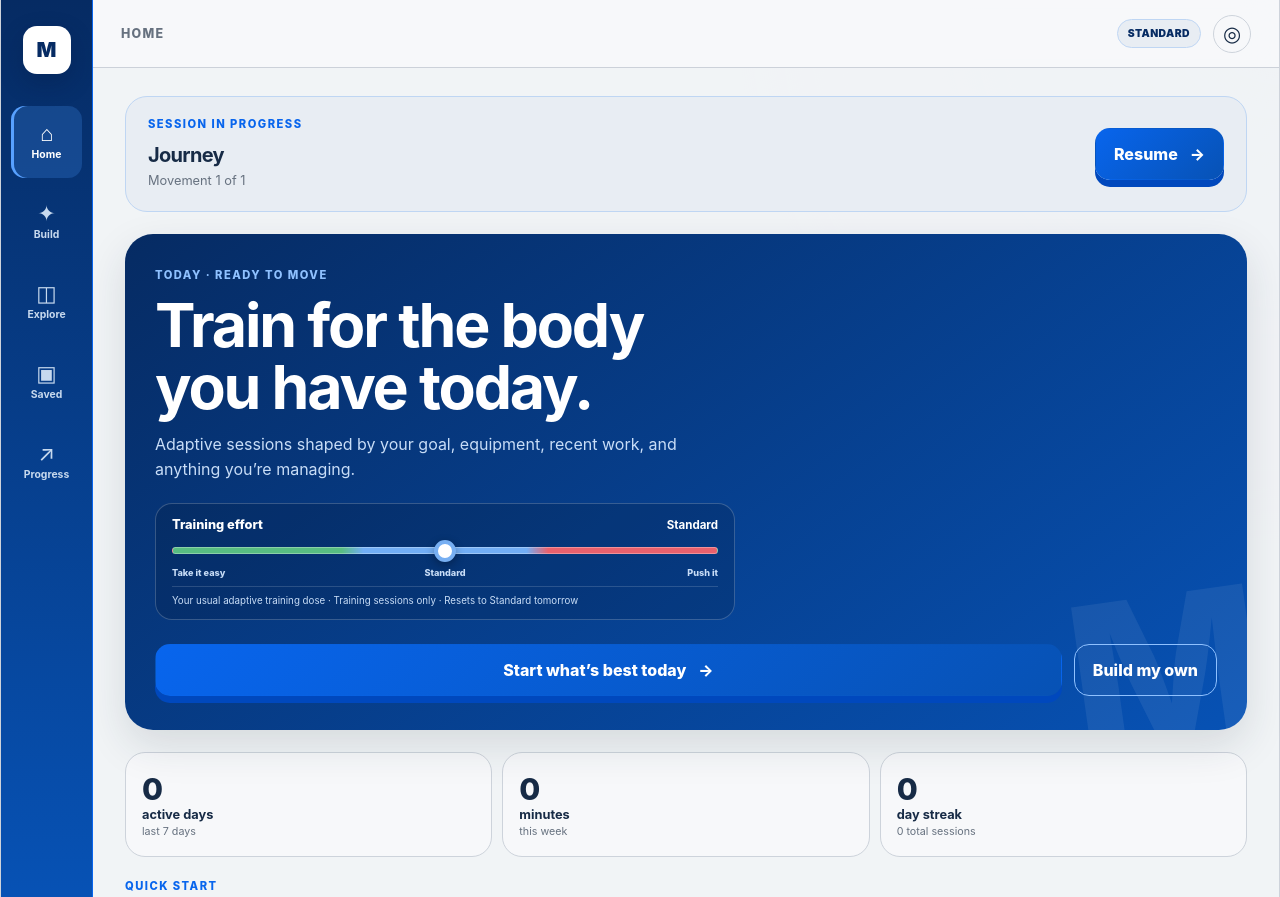
Scenario: resumes a persisted session, records review data, and transitions into Progress
Click the button "Resume →" at x=1159, y=154, box 1095,128 -> 1224,180
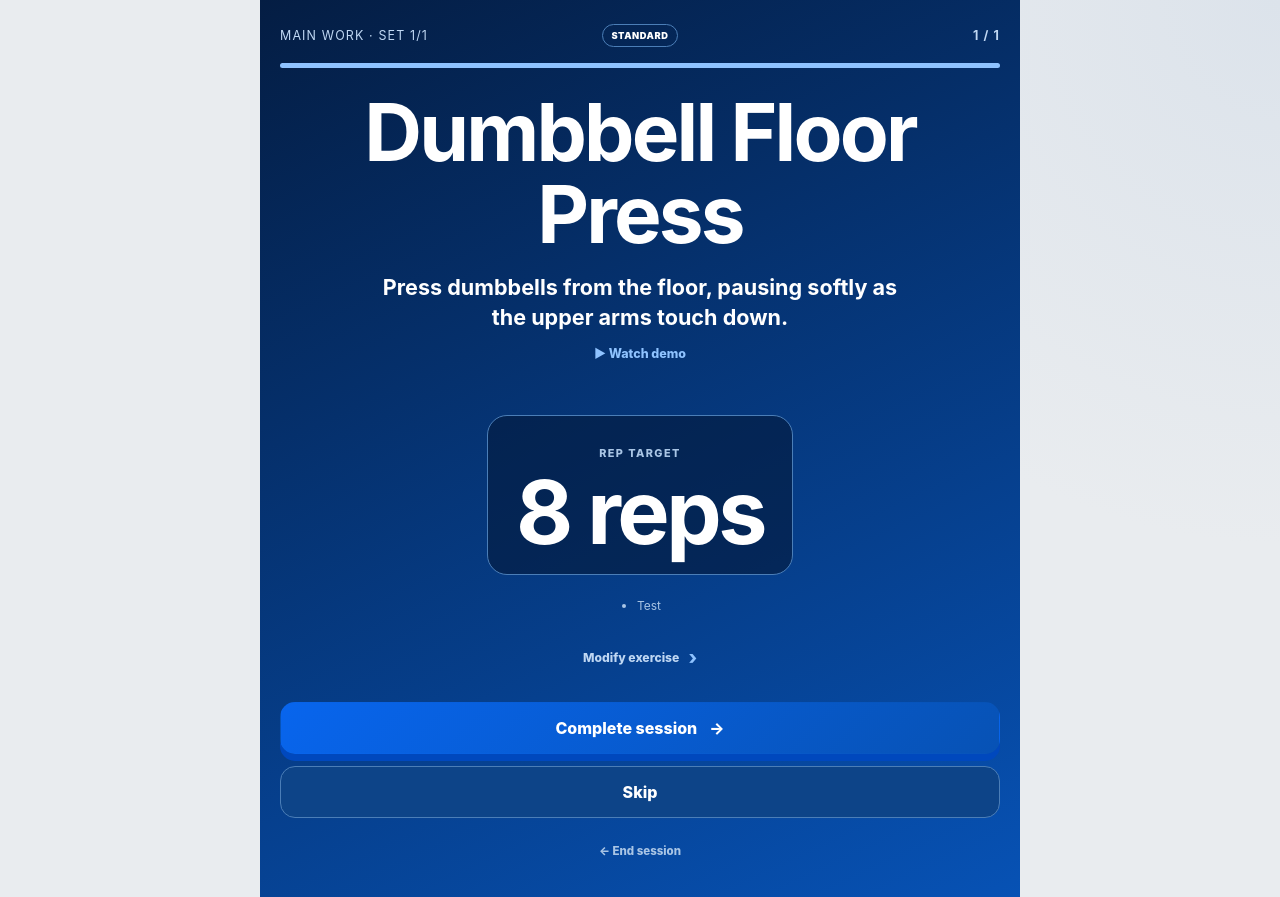
Expected: the text "8 reps" is shown, 516,468 -> 764,556
Click the button "Complete session →" at x=640, y=728, box 280,702 -> 1000,754
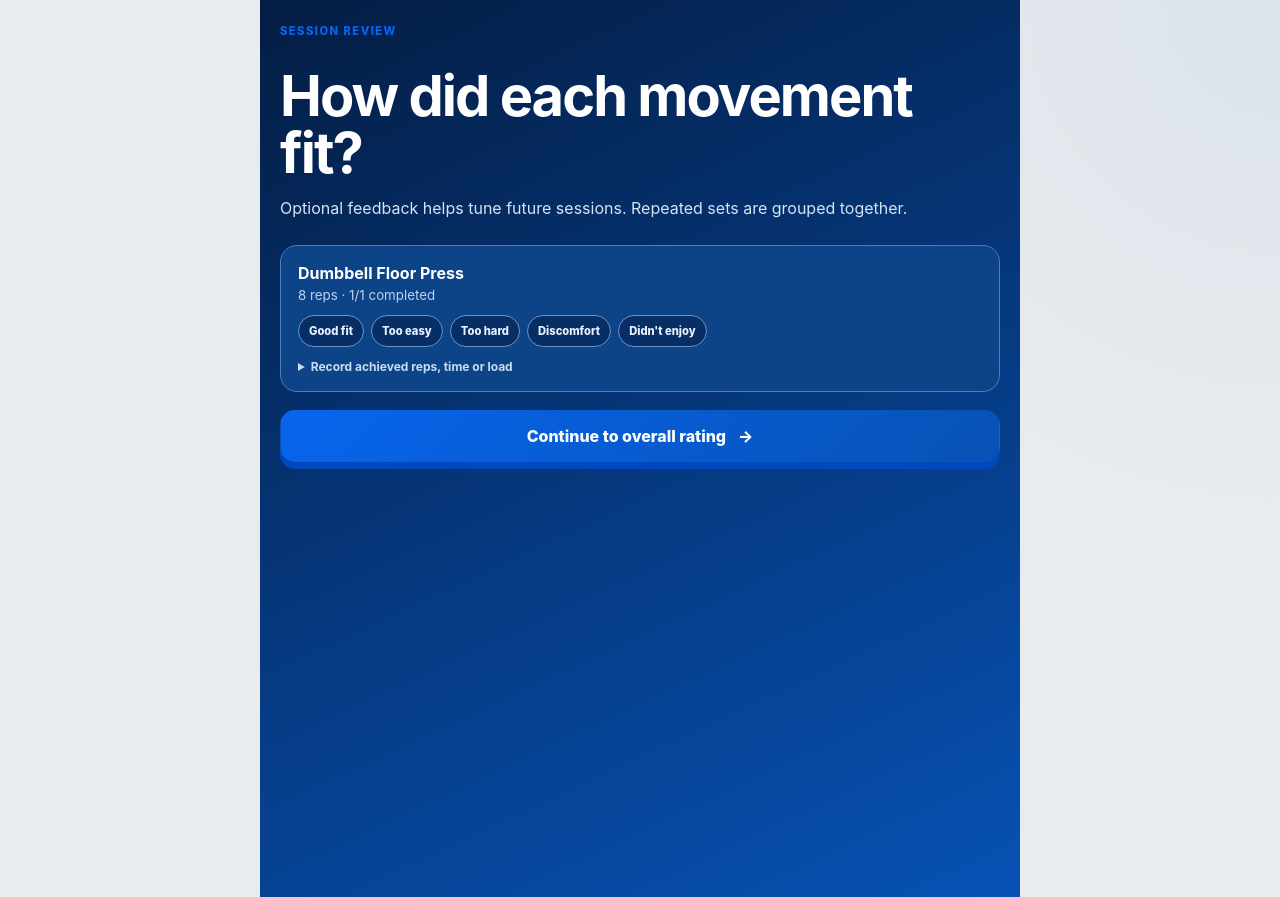
Expected: the heading "How did each movement fit?" is shown, 280,68 -> 1000,182
Click the button "Good fit" at x=331, y=331, box 298,315 -> 364,347
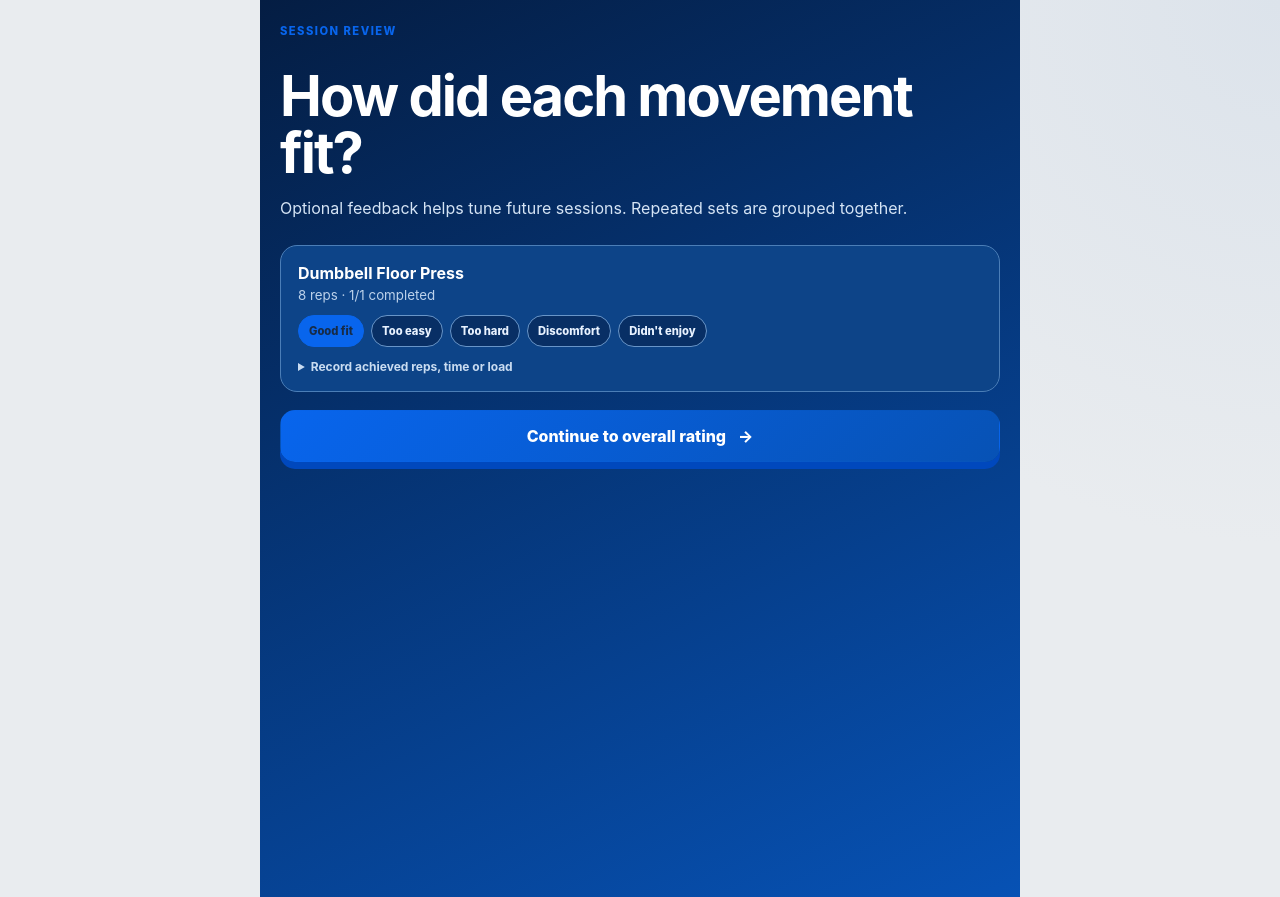
Click the heading "Record achieved reps, time or load" at x=412, y=366, box 311,359 -> 513,374
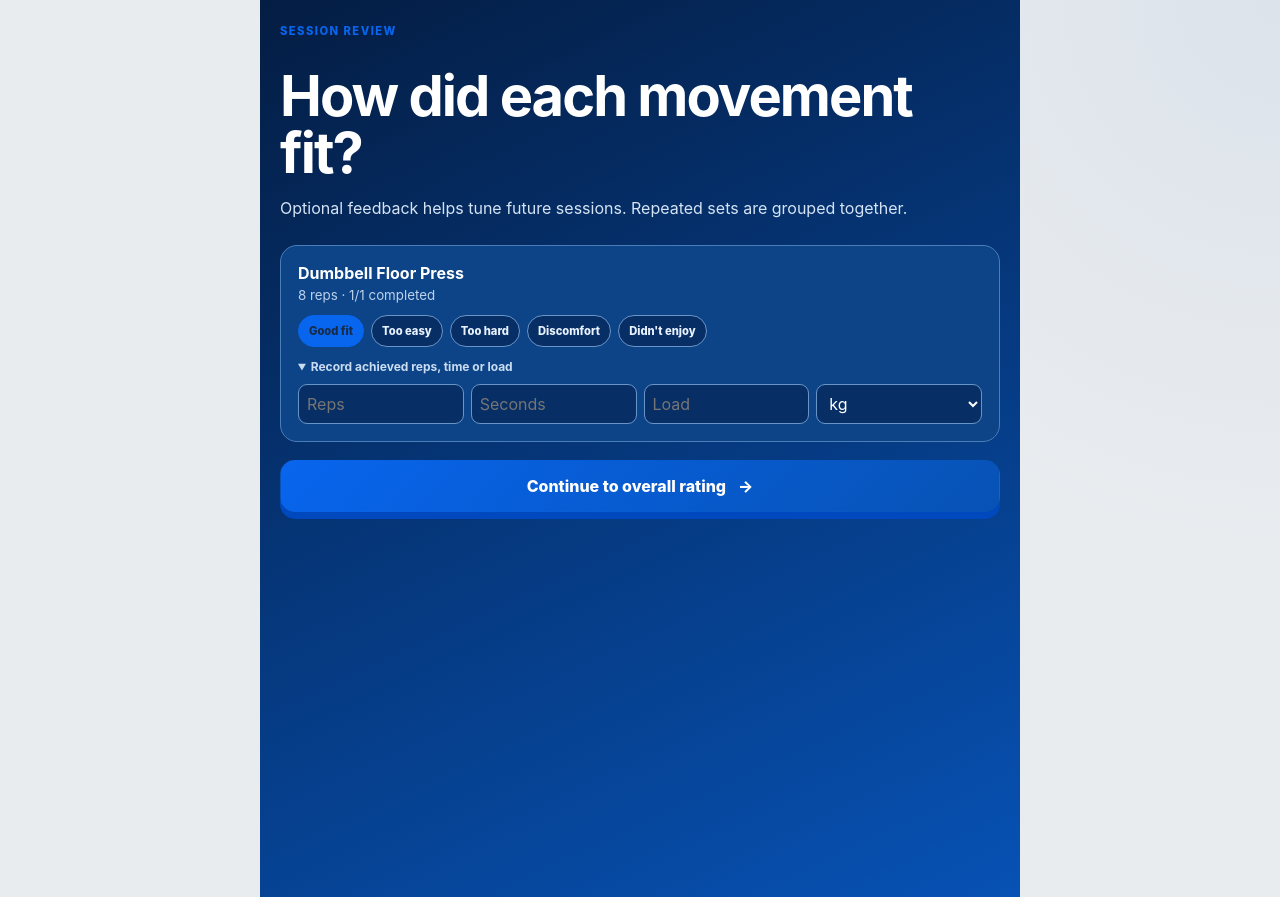
Type "9" into the field named "achieved reps" at x=381, y=404, box 298,384 -> 464,424
Click the button "Continue to overall rating →" at x=640, y=486, box 280,460 -> 1000,512
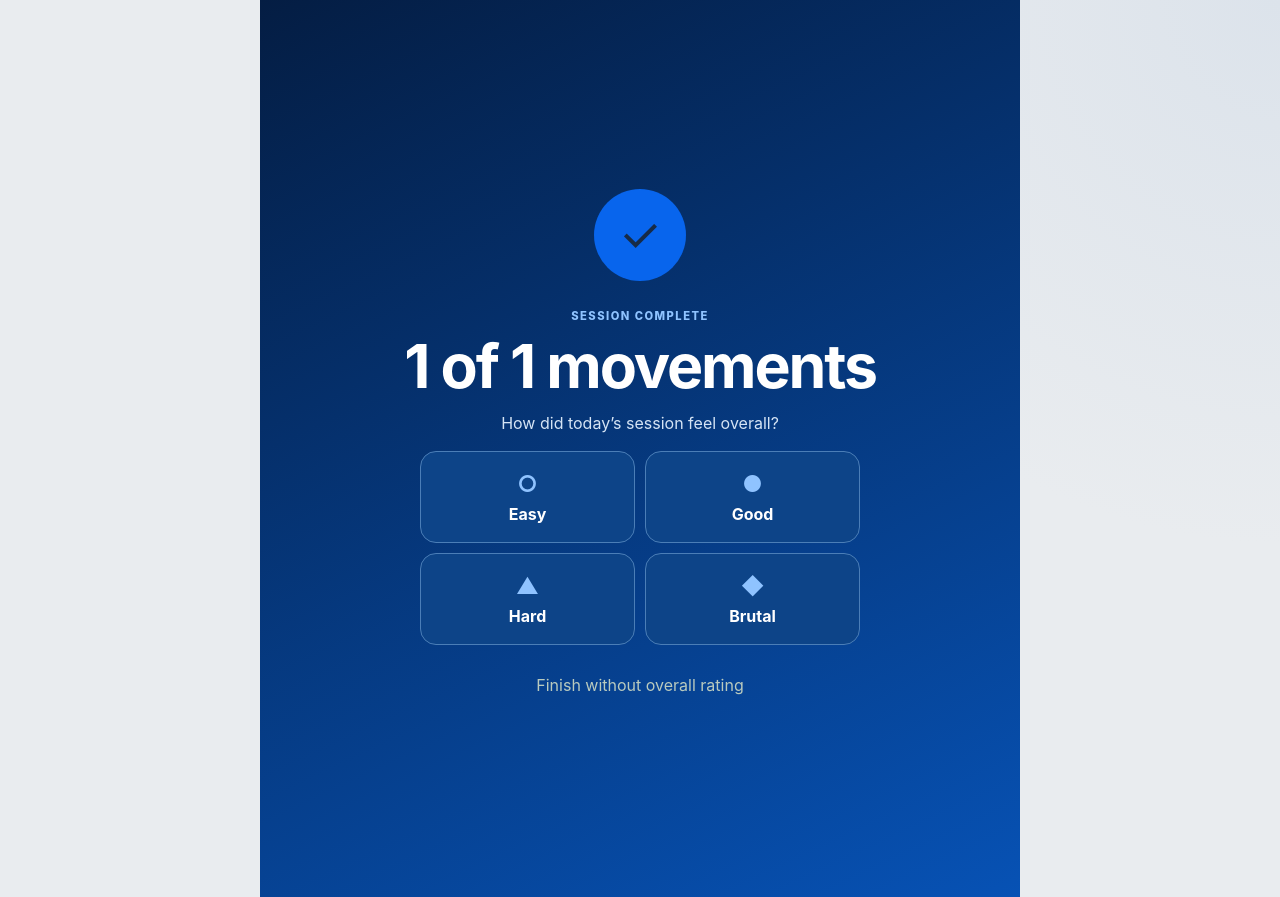
Click the button "● good" at x=752, y=497, box 645,451 -> 860,543
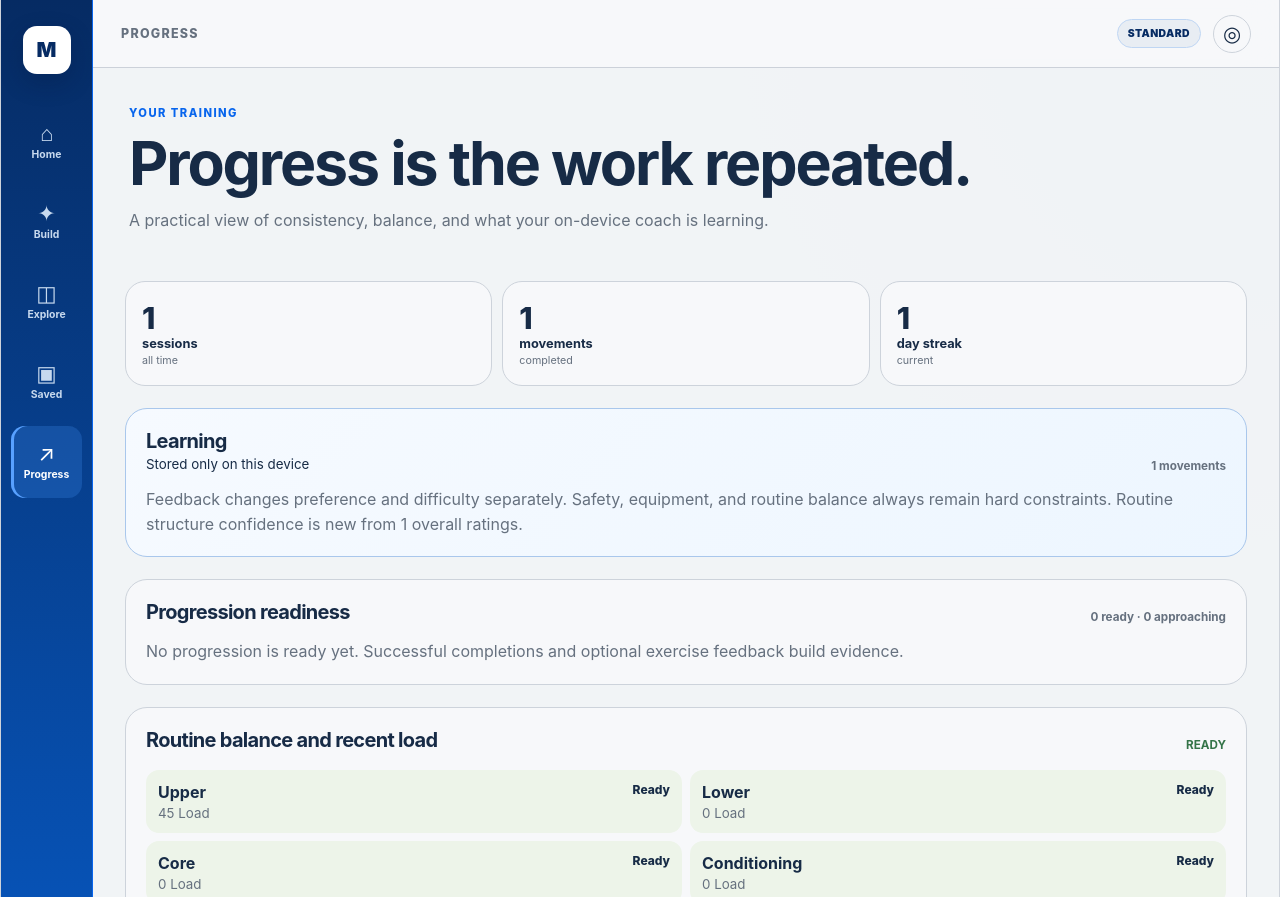
Expected: the heading "Progress is the work repeated." is shown, 129,126 -> 971,200
